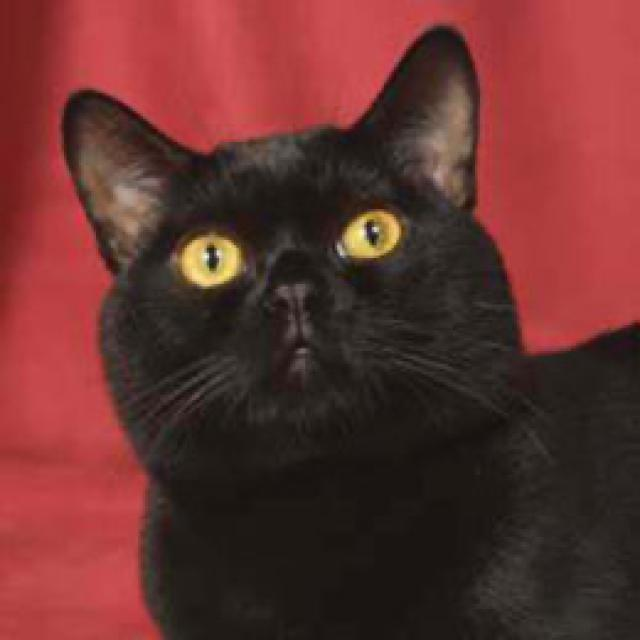cat: (59, 21, 510, 470)
